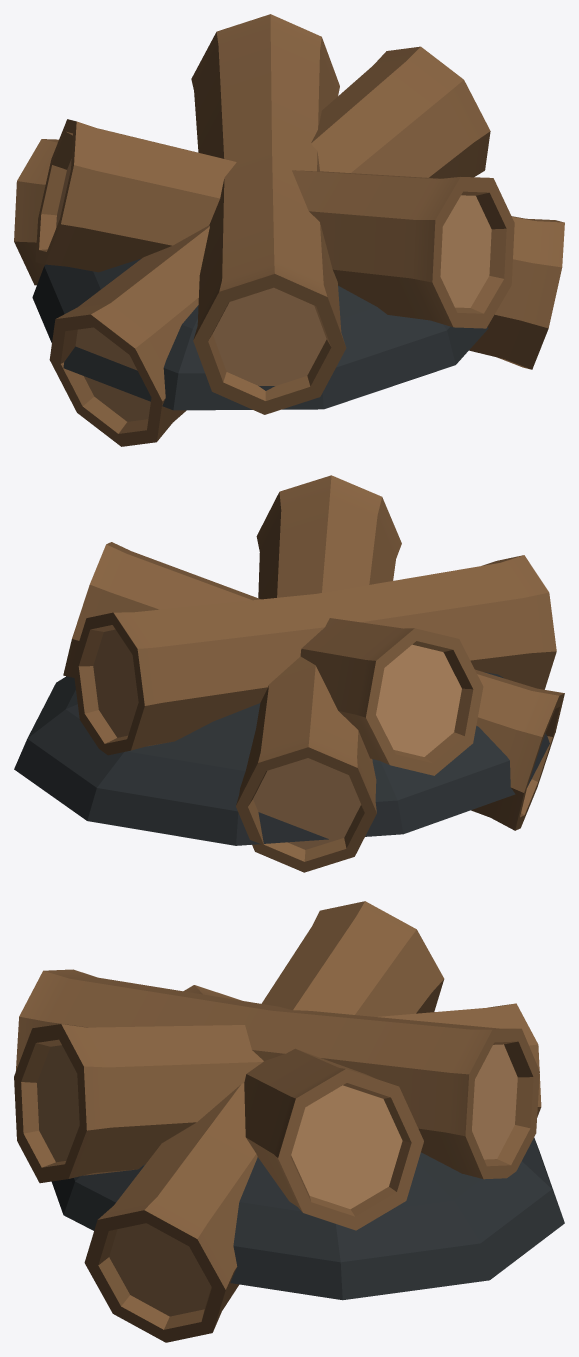
File: Geo_CampfireDying.fbx
3 views of the same model, one above another, from view 1: azimuth 30°, elevation 25°; view 2: azimuth 150°, elevation 25°; view 3: azimuth 270°, elevation 25° (orthographic). The views are drawn at different scales.
Visible parts, largest first — view 1: Campfire_Lit1; view 2: Campfire_Lit1; view 3: Campfire_Lit1.
Part boxes in pixels (x1,y1,x2,y2): Campfire_Lit1: [14, 14, 564, 446]; Campfire_Lit1: [14, 475, 564, 872]; Campfire_Lit1: [14, 901, 564, 1342].
Size of the model in its own units: 46.99 by 24.34 by 45.53.
